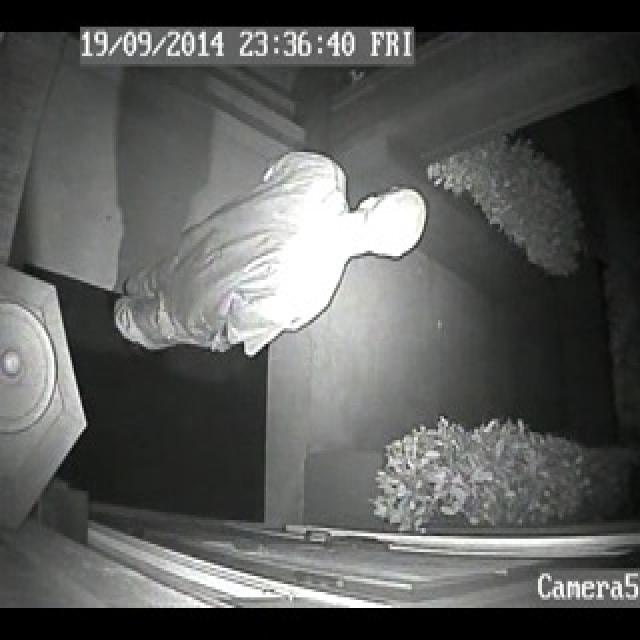thief: (111, 124, 426, 367)
